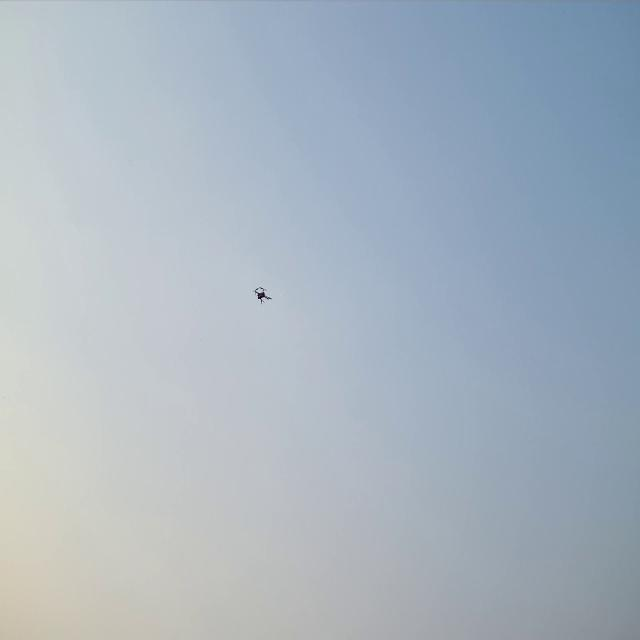UAV: (252, 282, 274, 308)
